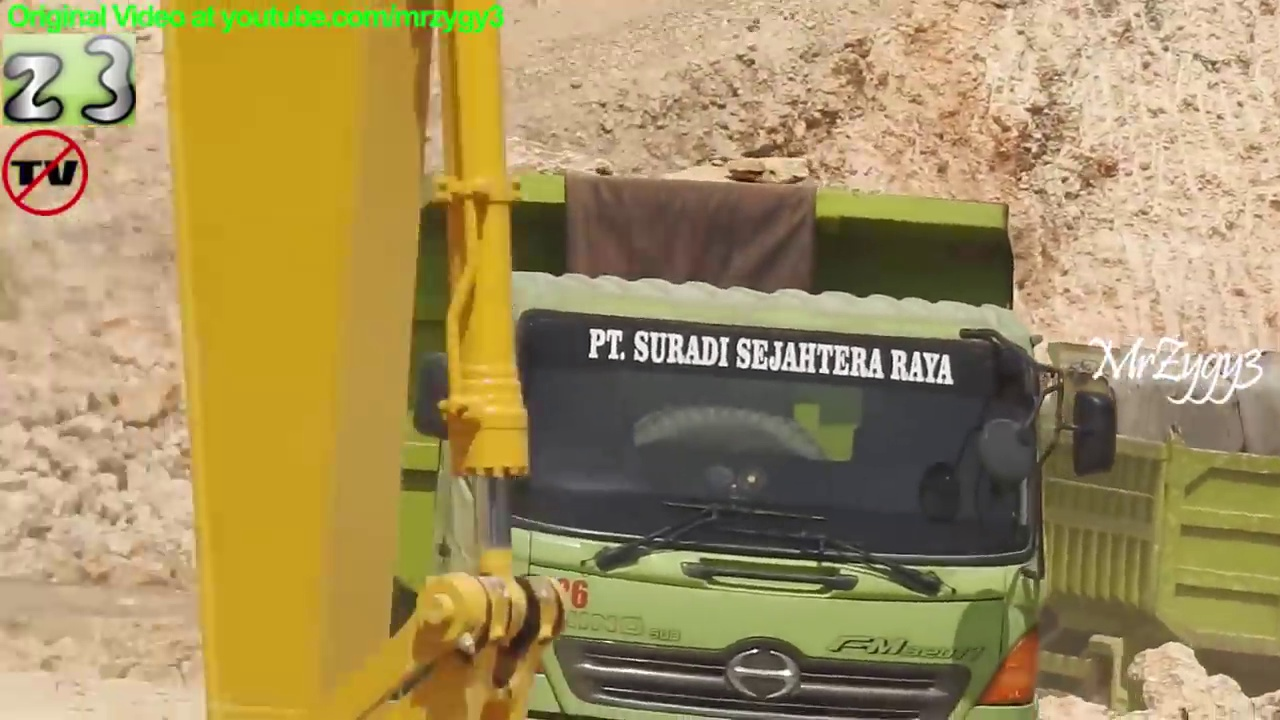excavator: (147, 3, 576, 720)
truck: (216, 155, 1124, 720), (878, 331, 1278, 720)
